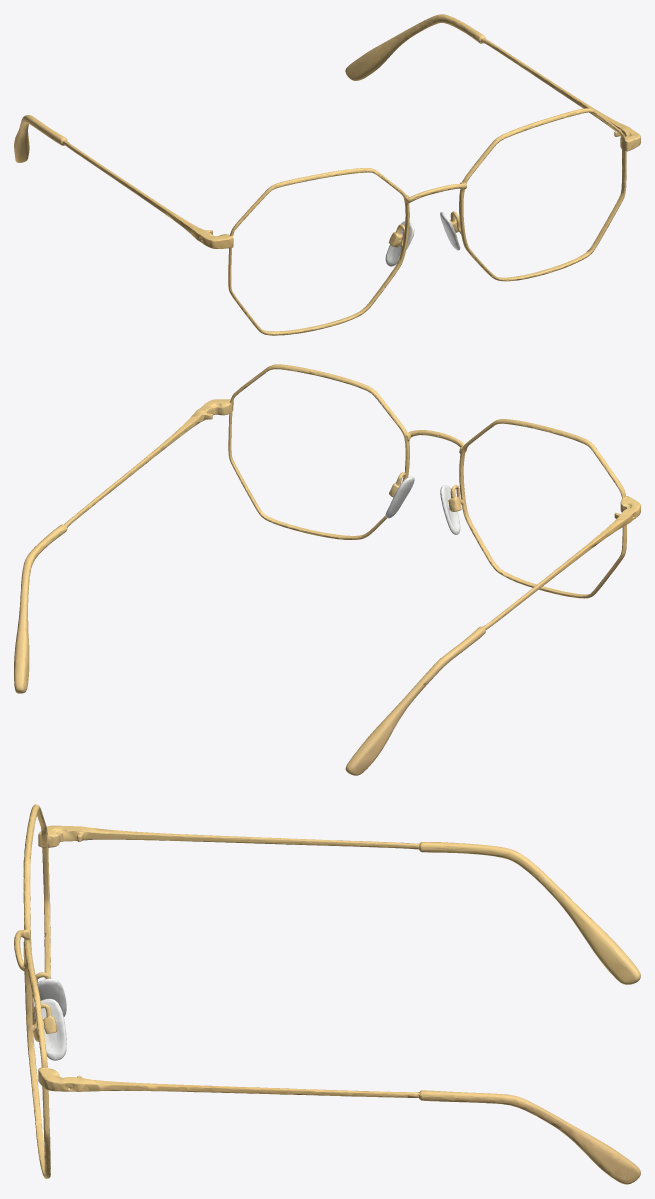
Rendered from el-glasses.glb.
The picture shows the model from 3 angles, top to bottom: view 1: azimuth 30°, elevation 25°; view 2: azimuth 150°, elevation 25°; view 3: azimuth 270°, elevation 25°; orthographic projection. The views are drawn at different scales.
Visible parts, largest first — view 1: Mesh_0; view 2: Mesh_0; view 3: Mesh_0.
Part boxes in pixels (box(x1,y1,x2,y2)): Mesh_0: box(14, 14, 640, 335); Mesh_0: box(14, 364, 640, 775); Mesh_0: box(14, 804, 640, 1184).
Size of the model in its own units: 0.9717 by 0.3421 by 1.
Materials: 1 (1 with a texture image).
